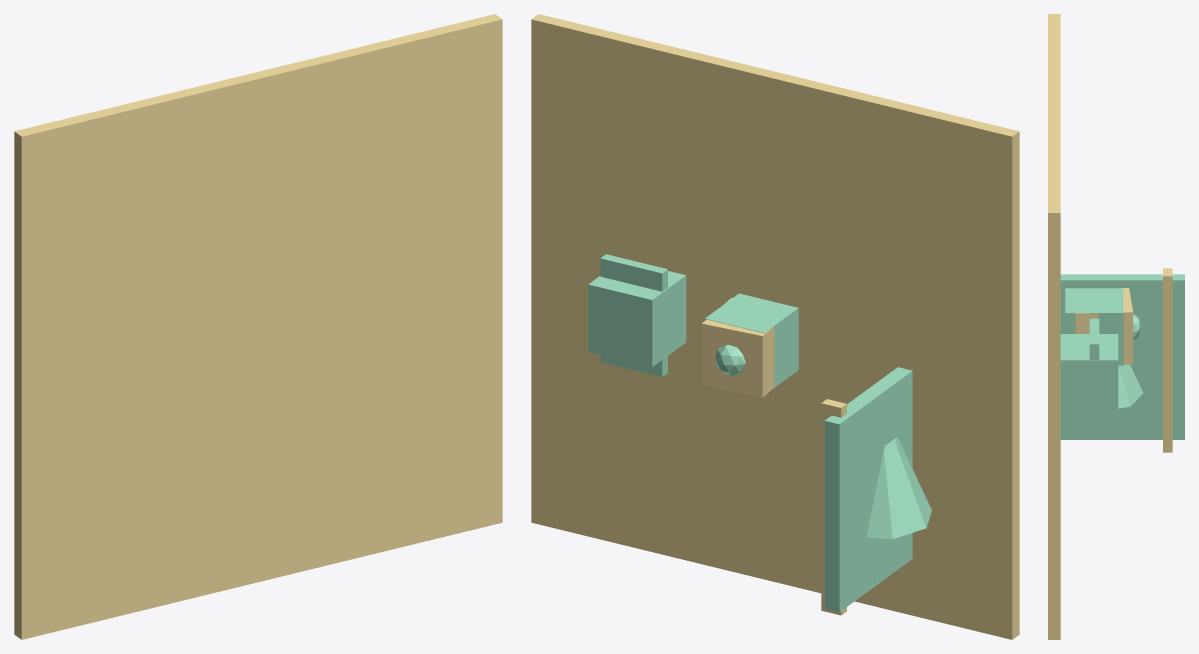
The model's file is word-weaver-kit.glb.
3 renders of one model, left to right at view 1: azimuth 30°, elevation 25°; view 2: azimuth 150°, elevation 25°; view 3: azimuth 270°, elevation 25°, orthographic. The views are drawn at different scales.
Parts seen in each view (by area): view 1: ENVIRONMENT_GROUND; view 2: ENVIRONMENT_GROUND, PROFILE_ENVIRONMENT_DETAIL, OBSTACLE, PLAYER_BODY, ENVIRONMENT_LANDMARK, PROFILE_PLAYER_DETAIL, PROFILE_OBSTACLE_DETAIL, PROFILE_ENVIRONMENT_TRIM, PLAYER_CORE; view 3: PROFILE_ENVIRONMENT_DETAIL, ENVIRONMENT_GROUND, OBSTACLE, PROFILE_PLAYER_DETAIL, PROFILE_ENVIRONMENT_TRIM, PLAYER_BODY, ENVIRONMENT_LANDMARK, PROFILE_OBSTACLE_DETAIL.
Boxes of the visible parts, x1,y1,x2,y2 form: ENVIRONMENT_GROUND: [14, 14, 502, 639]; ENVIRONMENT_GROUND: [531, 14, 1019, 639]; PROFILE_ENVIRONMENT_DETAIL: [824, 367, 912, 612]; OBSTACLE: [588, 271, 686, 366]; PLAYER_BODY: [701, 298, 774, 397]; ENVIRONMENT_LANDMARK: [866, 437, 931, 539]; PROFILE_PLAYER_DETAIL: [704, 293, 798, 388]; PROFILE_OBSTACLE_DETAIL: [600, 254, 667, 376]; PROFILE_ENVIRONMENT_TRIM: [821, 399, 846, 615]; PLAYER_CORE: [715, 345, 745, 376]; PROFILE_ENVIRONMENT_DETAIL: [1060, 274, 1184, 439]; ENVIRONMENT_GROUND: [1048, 14, 1060, 639]; OBSTACLE: [1060, 334, 1118, 417]; PROFILE_PLAYER_DETAIL: [1065, 288, 1123, 365]; PROFILE_ENVIRONMENT_TRIM: [1163, 268, 1172, 452]; PLAYER_BODY: [1075, 288, 1133, 364]; ENVIRONMENT_LANDMARK: [1118, 364, 1143, 408]; PROFILE_OBSTACLE_DETAIL: [1089, 318, 1099, 432].
Bounding box in the file's own units: 9 × 9 × 2.62.
